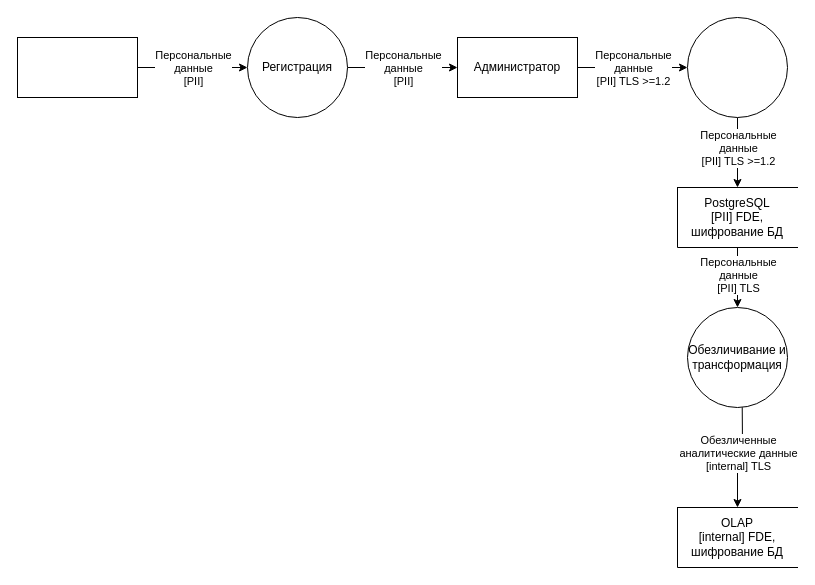
This 815x585 diagram has some shape labels left out. Each missing label, with the centre of its shape:
"Внесение данных в МИС" goes at (737,67).
"Пациент" goes at (77,67).
